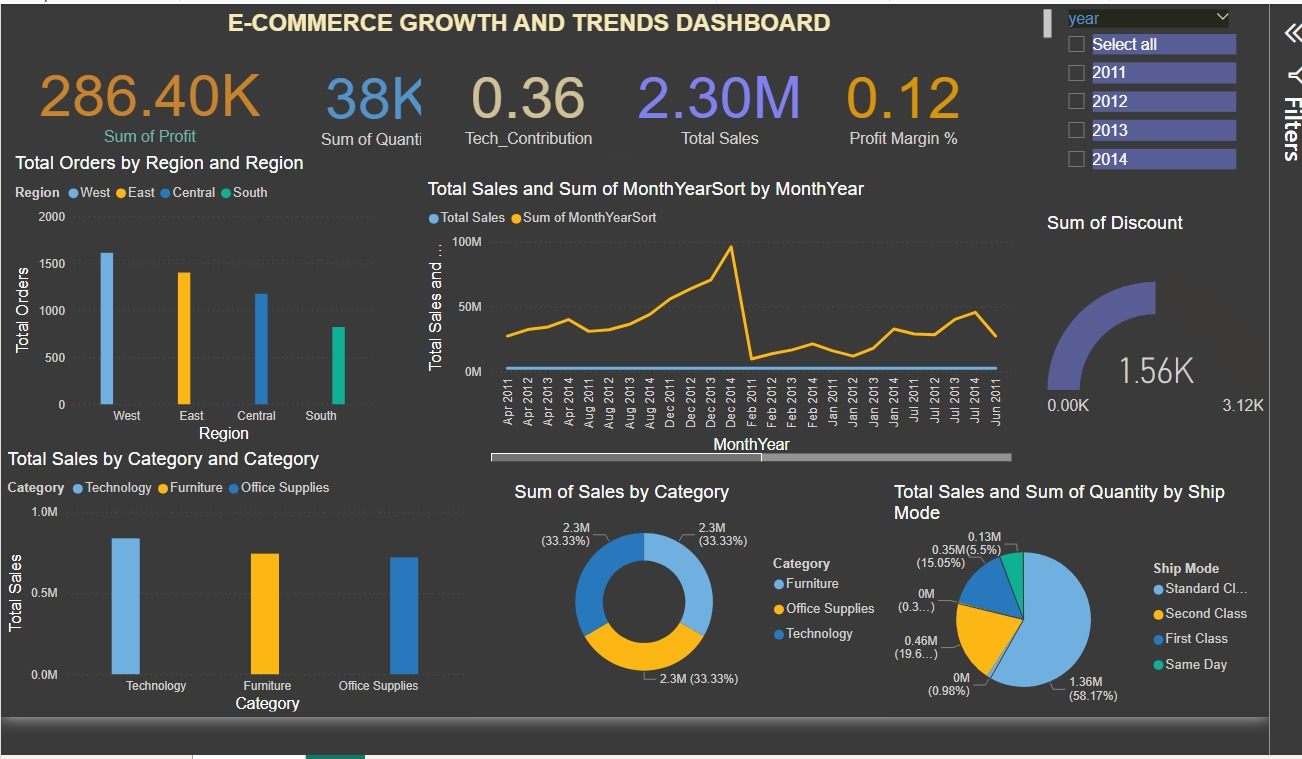

The page's visual inventory and layout, read from the dashboard file:
{"tool":"powerbi","page":{"name":"Page 1","canvas":[1280,720],"ordinal":0},"visuals":[{"type":"textbox","box":[9.4,0,1056.4,45.4],"z":0},{"type":"textbox","box":[9,211,1056,150],"z":1000},{"type":"card","fields":{"Values":["Sum(Cleaned Orders.Profit)"]},"box":[30.3,43.9,239.2,104.5],"z":2000},{"type":"card","fields":{"Values":["Sum(Cleaned Orders.Quantity)"]},"box":[302.8,46.9,154.4,104.5],"z":3000},{"type":"card","fields":{"Values":["Date.Total Sales"]},"box":[614.8,45.4,221.1,104.5],"z":4000},{"type":"card","fields":{"Values":["Date.Profit Margin %"]},"box":[835.8,45.4,149.9,104.5],"z":5000},{"type":"donutChart","fields":{"Y":["Sum(Cleaned Orders.Sales)"],"Category":["Date.Category"]},"box":[513.3,481.5,383.1,222.6],"z":6000},{"type":"slicer","fields":{"Values":["Date.year"]},"box":[1064.5,0,187.8,175.6],"z":7000},{"type":"clusteredColumnChart","fields":{"Category":["Cleaned Orders.Category"],"Y":["Date.Total Sales"],"Series":["Cleaned Orders.Category"]},"box":[1.5,448.2,473.9,271],"z":8000},{"type":"clusteredColumnChart","fields":{"Y":["Date.Total Orders"],"Category":["Cleaned Orders.Region"],"Series":["Cleaned Orders.Region"]},"box":[9.1,149.9,371,296.8],"z":9000},{"type":"lineChart","fields":{"Category":["Date.MonthYear"],"Y":["Date.Total Sales","Sum(Date.MonthYearSort)"]},"box":[425.5,175.6,599.6,290.7],"z":10000},{"type":"pieChart","fields":{"Y":["Date.Total Sales","Sum(Cleaned Orders.Quantity)"],"Category":["Cleaned Orders.Ship Mode"]},"box":[896.4,481.5,383.1,237.7],"z":11000},{"type":"card","fields":{"Values":["Date.Tech_Contribution"]},"box":[424,45.4,216.5,104.5],"z":12000},{"type":"gauge","fields":{"Y":["Sum(Cleaned Orders.Discount)"]},"box":[1050.9,210.5,228.6,255.9],"z":13000}]}

Visuals, with their boxes on the page's 1280x720 design canvas (x1, y1, x2, y2). These are canvas units, not pixel positions in the 1302x759 screenshot, which may show the page scaled, cropped or inside an application window:
textbox: [left=9, top=0, right=1066, bottom=45]
textbox: [left=9, top=211, right=1065, bottom=361]
card - Sum(Cleaned Orders.Profit): [left=30, top=44, right=270, bottom=148]
card - Sum(Cleaned Orders.Quantity): [left=303, top=47, right=457, bottom=151]
card - Date.Total Sales: [left=615, top=45, right=836, bottom=150]
card - Date.Profit Margin %: [left=836, top=45, right=986, bottom=150]
donutChart - Sum(Cleaned Orders.Sales) x Date.Category: [left=513, top=482, right=896, bottom=704]
slicer - Date.year: [left=1064, top=0, right=1252, bottom=176]
clusteredColumnChart - Cleaned Orders.Category x Date.Total Sales: [left=2, top=448, right=475, bottom=719]
clusteredColumnChart - Date.Total Orders x Cleaned Orders.Region: [left=9, top=150, right=380, bottom=447]
lineChart - Date.MonthYear x Date.Total Sales: [left=426, top=176, right=1025, bottom=466]
pieChart - Date.Total Sales x Sum(Cleaned Orders.Quantity): [left=896, top=482, right=1280, bottom=719]
card - Date.Tech_Contribution: [left=424, top=45, right=640, bottom=150]
gauge - Sum(Cleaned Orders.Discount): [left=1051, top=210, right=1280, bottom=466]
